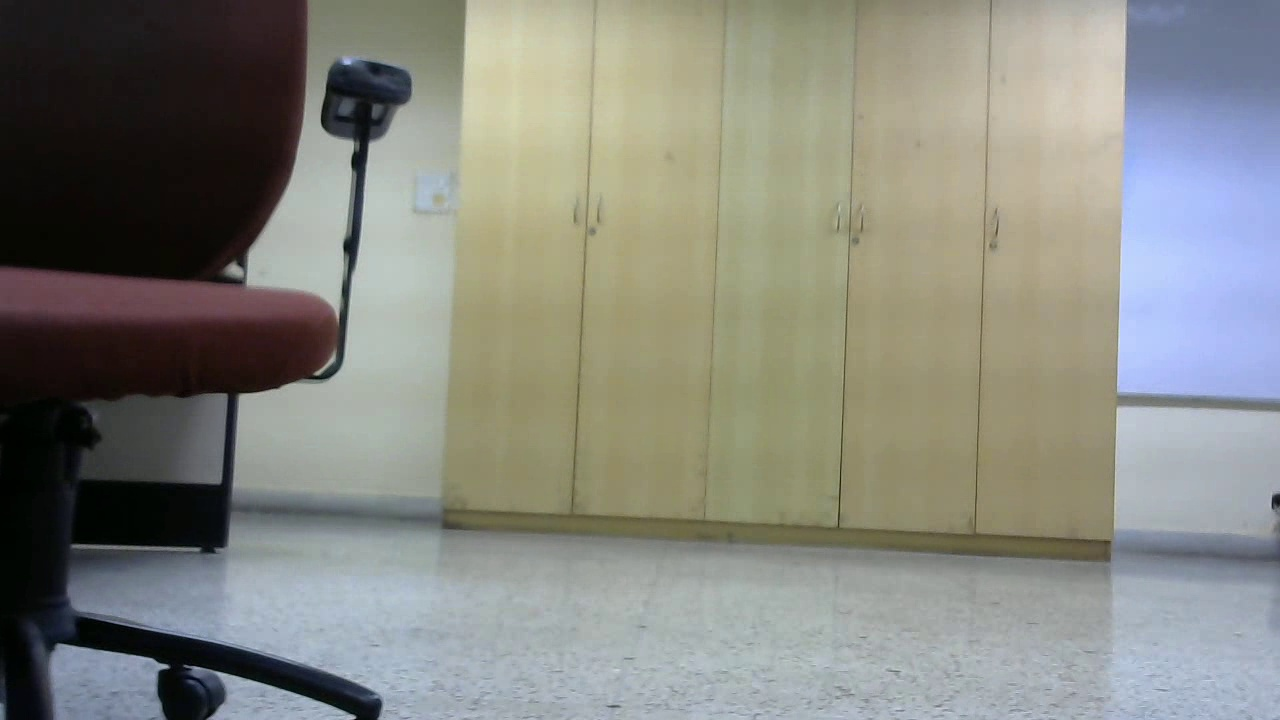chair: (10, 10, 402, 720)
